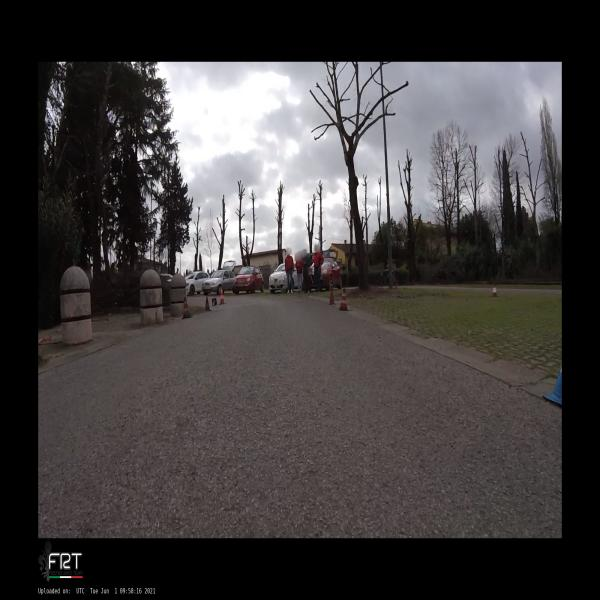blue_cone: (542, 362, 562, 405)
large_orange_cone: (182, 296, 192, 320), (339, 289, 349, 311), (218, 287, 226, 305)
orange_cone: (490, 284, 498, 298)
unknown_cone: (328, 290, 336, 306), (205, 296, 211, 312), (212, 298, 216, 306)
